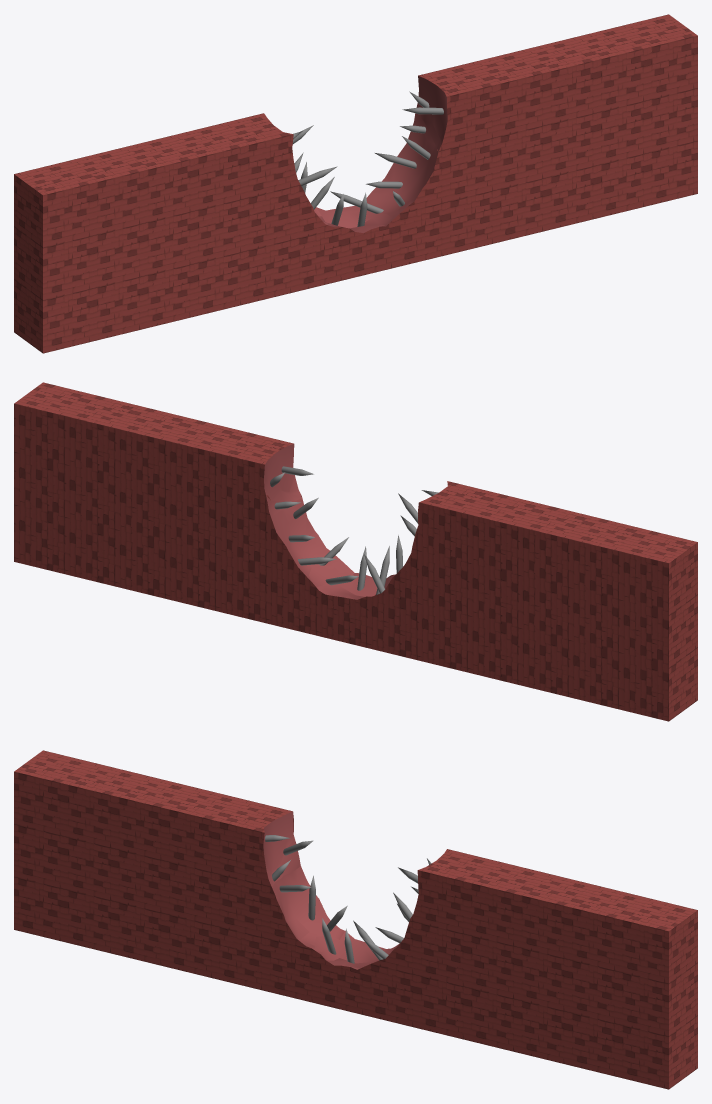
3 views of the same model, one above another, from view 1: azimuth 30°, elevation 25°; view 2: azimuth 150°, elevation 25°; view 3: azimuth 330°, elevation 25° (orthographic).
Parts seen in each view (by area): view 1: Ground; view 2: Ground; view 3: Ground.
Part boxes in pixels (x1,y1,x2,y2): Ground: (14, 14, 697, 353); Ground: (14, 382, 697, 721); Ground: (14, 750, 697, 1089).
Size of what is drawn, in the model's own units: 12.27 by 2.83 by 0.9647.
Materials: 3 (1 with a texture image).
